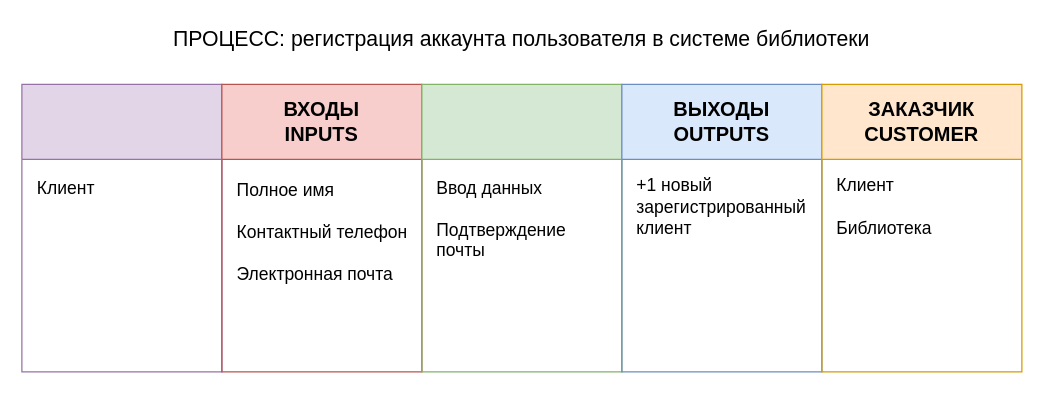
The diagram is 1044 pixels wide and 394 high, and some of its shapes have lost their labels. The box of each missing label's shape, as (x1, y1, x2, y2) in pixels:
ПОСТАВЩИК SUPPLIER: (21, 83, 222, 372)
ПРОЦЕСС PROCESS: (421, 83, 622, 372)
